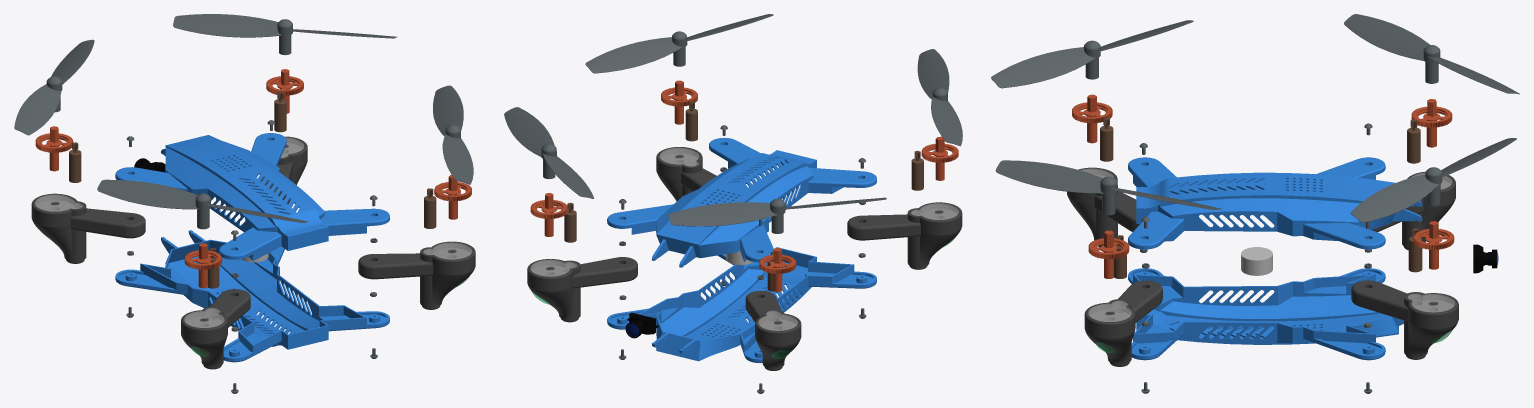
Rendered from Drone_ex.glb.
The picture shows the model from 3 angles, left to right: view 1: azimuth 30°, elevation 25°; view 2: azimuth 150°, elevation 25°; view 3: azimuth 270°, elevation 25°; orthographic projection. The views are drawn at different scales.
Parts seen in each view (by area): view 1: Main-frame_MIR, Main-frame, Leg.011, Leg.009, Leg.005, Impellar-Blade.003, Impellar-Blade.001, Impellar-Blade.002, Impellar-Blade, Leg.007, Arm-gear.002, Arm-gear.003 (+8 smaller); view 2: Main-frame_MIR, Main-frame, Leg.005, Leg.007, Impellar-Blade.002, Leg.009, Impellar-Blade, Impellar-Blade.003, Impellar-Blade.001, Leg.011, Arm-gear.004, Arm-gear.002 (+10 smaller); view 3: Main-frame_MIR, Main-frame, Leg.007, Leg.011, Impellar-Blade, Impellar-Blade.001, Impellar-Blade.002, Impellar-Blade.003, Leg.005, Leg.009, Arm-gear.004, Arm-gear.003 (+9 smaller).
Boxes of the visible parts, x1,y1,x2,y2 form: Main-frame_MIR: (115,133,389,260); Main-frame: (115,230,389,362); Leg.011: (358,241,475,309); Leg.009: (31,193,145,263); Leg.005: (181,289,250,369); Impellar-Blade.003: (173,14,396,55); Impellar-Blade.001: (97,179,308,229); Impellar-Blade.002: (14,39,94,135); Impellar-Blade: (433,85,473,184); Leg.007: (261,136,307,204); Arm-gear.002: (184,243,222,288); Arm-gear.003: (35,126,73,171); Main-frame_MIR: (607,137,876,267); Main-frame: (607,247,876,363); Leg.005: (847,202,962,269); Leg.007: (527,257,637,322); Impellar-Blade.002: (668,197,886,233); Leg.009: (745,290,801,370); Impellar-Blade: (585,14,773,73); Impellar-Blade.003: (504,107,594,198); Impellar-Blade.001: (917,49,962,146); Leg.011: (656,147,716,201); Arm-gear.004: (530,193,567,236); Arm-gear.002: (921,136,958,180); Main-frame_MIR: (1128,157,1422,249); Main-frame: (1128,268,1403,360); Leg.007: (1351,280,1458,359); Leg.011: (1084,280,1162,366); Impellar-Blade: (995,160,1221,215); Impellar-Blade.001: (991,20,1193,88); Impellar-Blade.002: (1344,14,1519,94); Impellar-Blade.003: (1350,138,1516,222); Leg.005: (1067,167,1139,247); Leg.009: (1371,171,1455,250); Arm-gear.004: (1413,221,1454,269); Arm-gear.003: (1411,99,1452,147).
Bounding box in the file's own units: 0.2837 × 0.1621 × 0.312.
